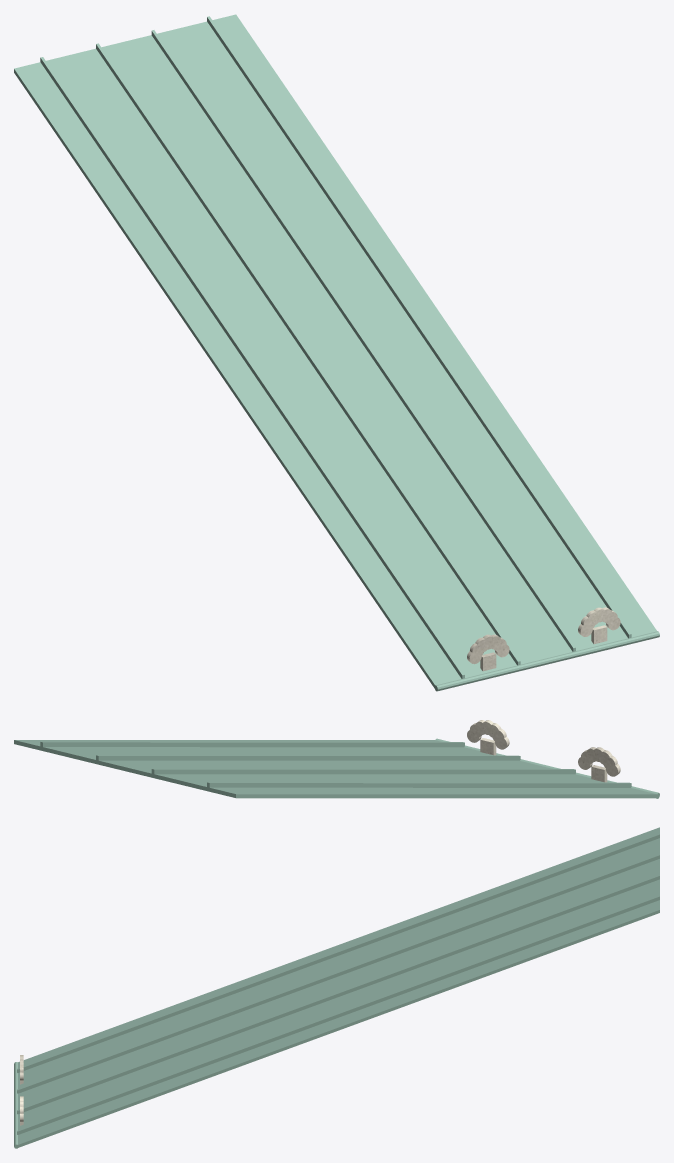
Rendered from roof_strip.glb.
The picture shows the model from 3 angles, top to bottom: view 1: azimuth 30°, elevation 25°; view 2: azimuth 150°, elevation 25°; view 3: azimuth 270°, elevation 25°; orthographic projection. The views are drawn at different scales.
Parts seen in each view (by area): view 1: roof_strip_patina, roof_strip_carve; view 2: roof_strip_patina, roof_strip_carve; view 3: roof_strip_patina.
Boxes of the visible parts, x1=… form: roof_strip_patina: x1=14, y1=14, x2=659, y2=691; roof_strip_carve: x1=467, y1=607, x2=620, y2=671; roof_strip_patina: x1=14, y1=738, x2=659, y2=798; roof_strip_carve: x1=467, y1=720, x2=620, y2=782; roof_strip_patina: x1=14, y1=827, x2=659, y2=1148.
Bounding box in the file's own units: 2 × 2.74 × 6.61.
Materials: 2 (1 with a texture image).
